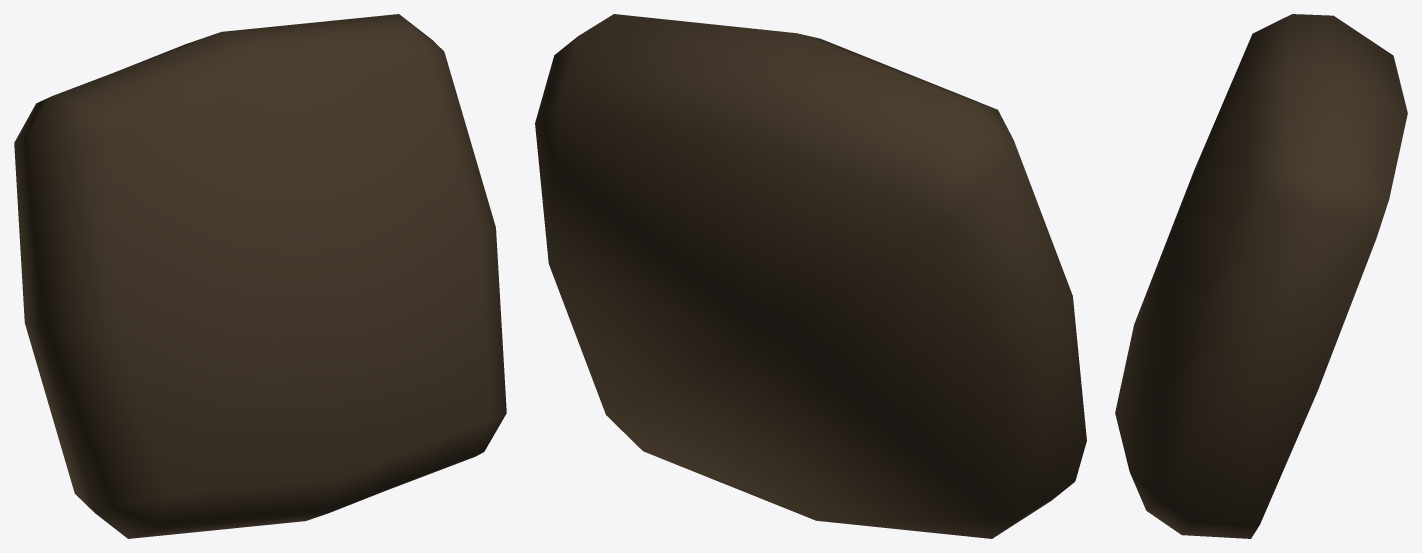
The model's file is HQ_Cushion.fbx.
The picture shows the model from 3 angles, left to right: view 1: azimuth 30°, elevation 25°; view 2: azimuth 150°, elevation 25°; view 3: azimuth 270°, elevation 25°; orthographic projection. The views are drawn at different scales.
Visible parts, largest first — view 1: HQ_CouchCushion01; view 2: HQ_CouchCushion01; view 3: HQ_CouchCushion01.
Part boxes in pixels (left/top/right/bottom): HQ_CouchCushion01: left=14, top=14, right=506, bottom=538; HQ_CouchCushion01: left=535, top=14, right=1086, bottom=538; HQ_CouchCushion01: left=1115, top=14, right=1407, bottom=538.
Size of the model in its own units: 2.69 by 2.6 by 1.64.
